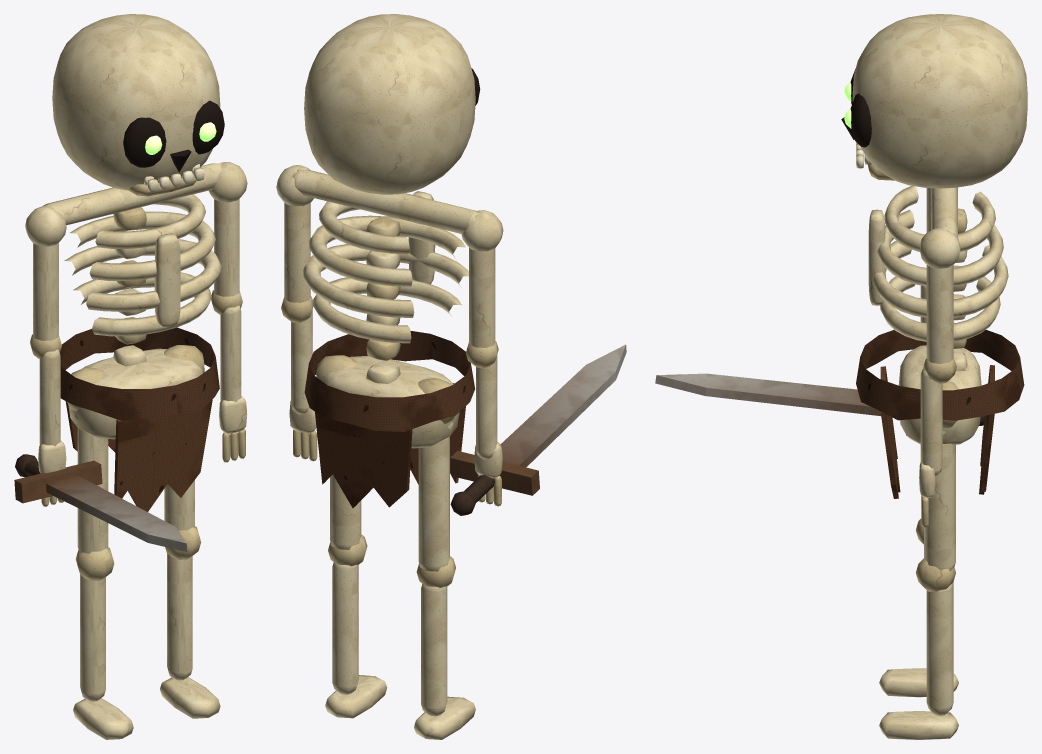
3 views of the same model, side by side, from view 1: azimuth 30°, elevation 25°; view 2: azimuth 150°, elevation 25°; view 3: azimuth 270°, elevation 25° (orthographic). The views are drawn at different scales.
Parts seen in each view (by area): view 1: Body, Head, ArmR, LegR, ArmL, LegL, Jaw; view 2: Body, Head, ArmR, LegR, LegL, ArmL; view 3: Head, Body, LegL, ArmL, ArmR, LegR.
Part boxes in pixels (box(x1,y1,x2,y2)): Body: box(42, 163, 222, 511); Head: box(52, 14, 224, 192); ArmR: box(14, 206, 187, 551); LegR: box(73, 414, 133, 739); ArmL: box(209, 162, 247, 462); LegL: box(160, 480, 220, 718); Jaw: box(127, 164, 200, 196); Body: box(292, 169, 477, 508); Head: box(304, 14, 480, 194); ArmR: box(450, 210, 626, 515); LegR: box(414, 422, 475, 739); LegL: box(325, 474, 387, 718); ArmL: box(276, 165, 317, 461); Head: box(841, 14, 1027, 188); Body: box(856, 186, 1024, 498); LegL: box(879, 431, 958, 739); ArmL: box(919, 228, 960, 527); ArmR: box(655, 188, 984, 435); LegR: box(879, 518, 958, 697).
Bounding box in the file's own units: 0.66 × 1.8 × 0.8849.
Materials: 5 (3 with a texture image).
